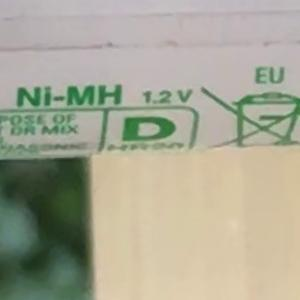keyword: (8, 75, 131, 130)
